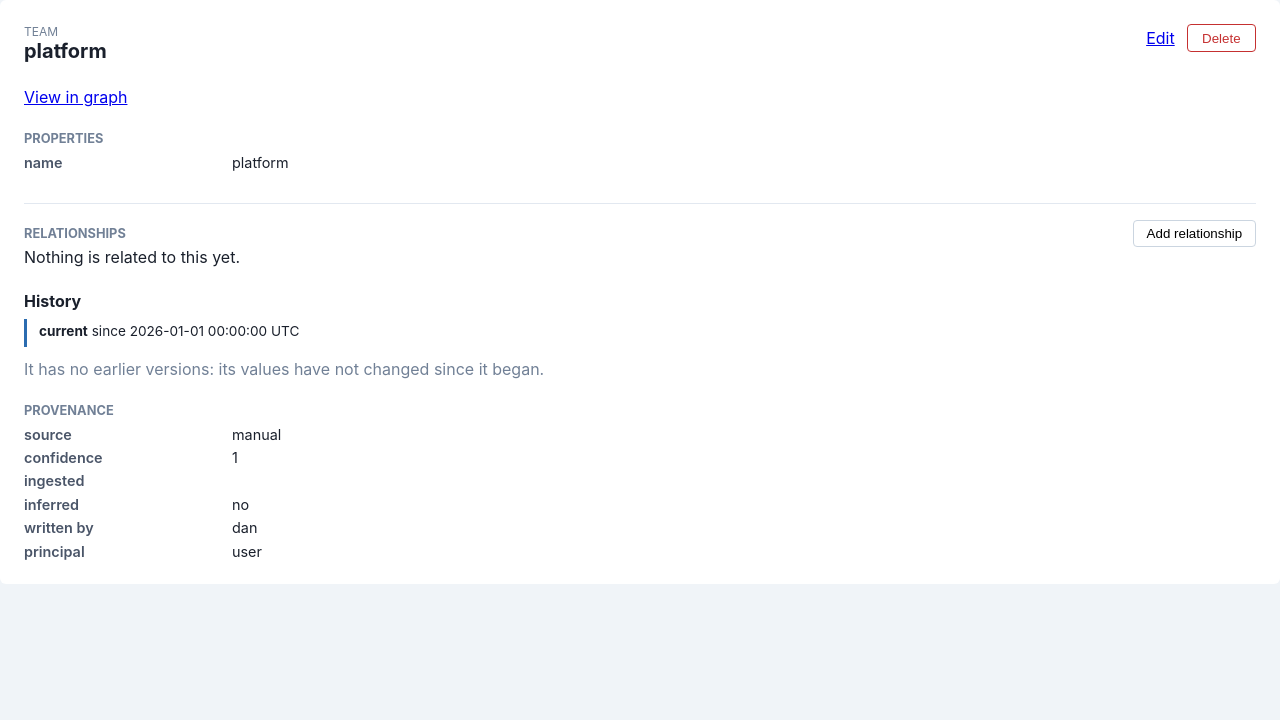
NodeDetail, for a user who may only read › says which scope was missing when a delete is refused for it
This screenshot has width=1280, height=720.
Click the button with test id "delete-node".
click(1221, 38)  # box [1187,24,1256,52]
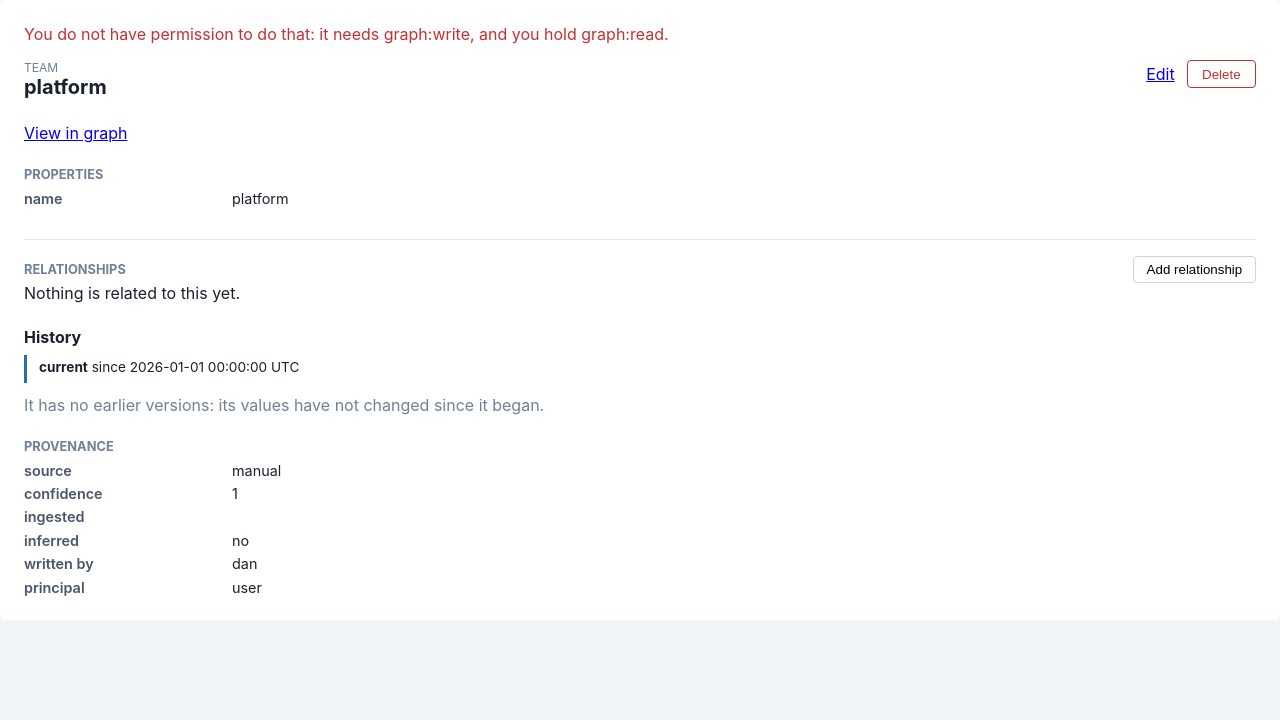
Check: the text with class "error" shows "You do not have permission to do that: it needs graph:write, and you hold graph:read.", box [24,24,669,44]
